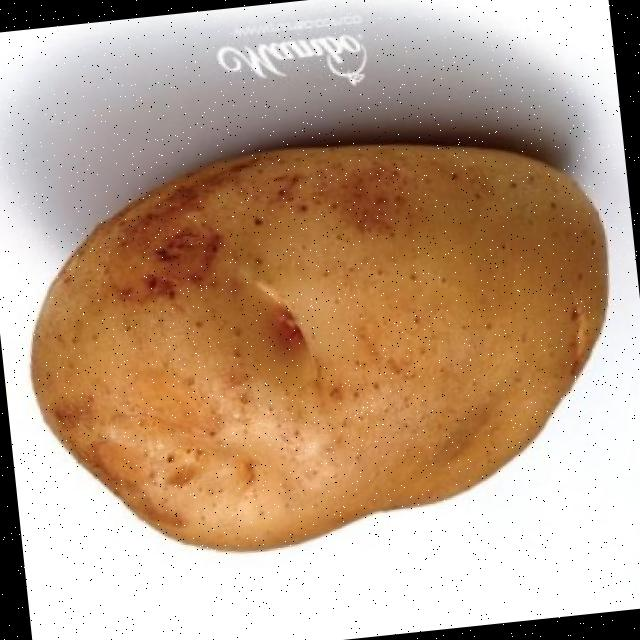Defected potato: (7, 115, 638, 580)
